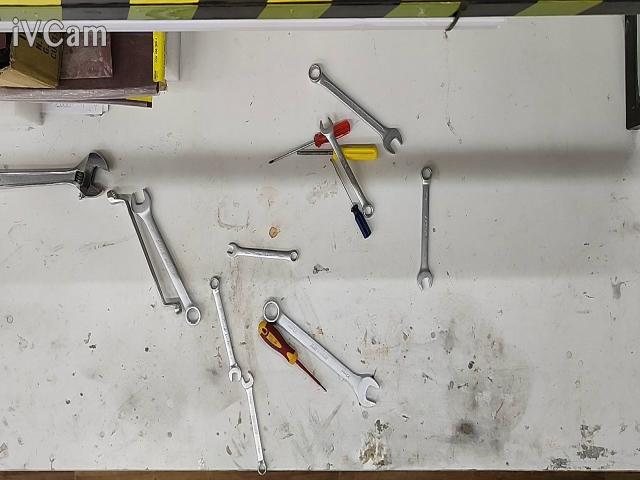Adjustable spanner: (0, 152, 109, 201)
Screwdriver: (258, 321, 328, 392), (268, 120, 350, 165), (330, 158, 372, 239), (296, 144, 378, 160)
Wrench: (263, 300, 379, 408), (131, 188, 201, 325), (107, 189, 182, 315), (308, 65, 402, 155), (320, 117, 374, 218), (210, 277, 242, 383), (241, 371, 266, 475), (416, 167, 433, 290), (227, 243, 299, 263)
